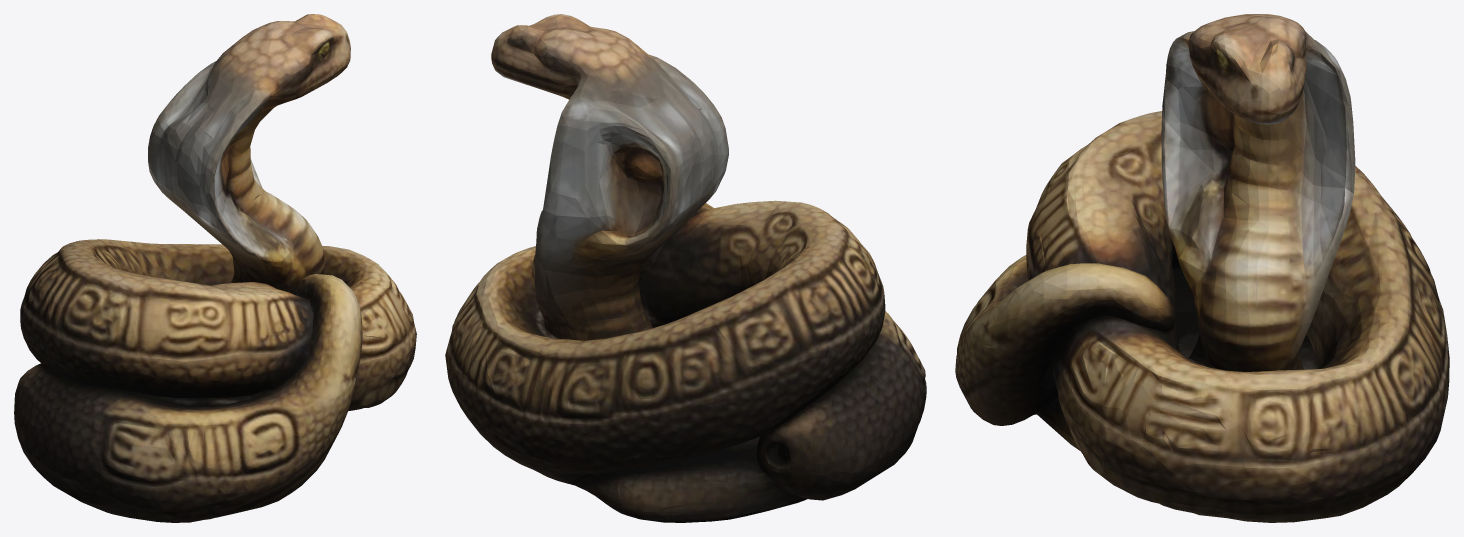
The model's file is glassAdder.glb.
3 renders of one model, left to right at view 1: azimuth 30°, elevation 25°; view 2: azimuth 150°, elevation 25°; view 3: azimuth 270°, elevation 25°, orthographic. The views are drawn at different scales.
Parts seen in each view (by area): view 1: world; view 2: world; view 3: world.
Part boxes in pixels (bbox=[...]): world: bbox=[14, 14, 416, 522]; world: bbox=[445, 14, 926, 522]; world: bbox=[955, 14, 1449, 522].
Bounding box in the file's own units: 0.7136 × 0.7058 × 0.6369.
1 material, 1 textured.
